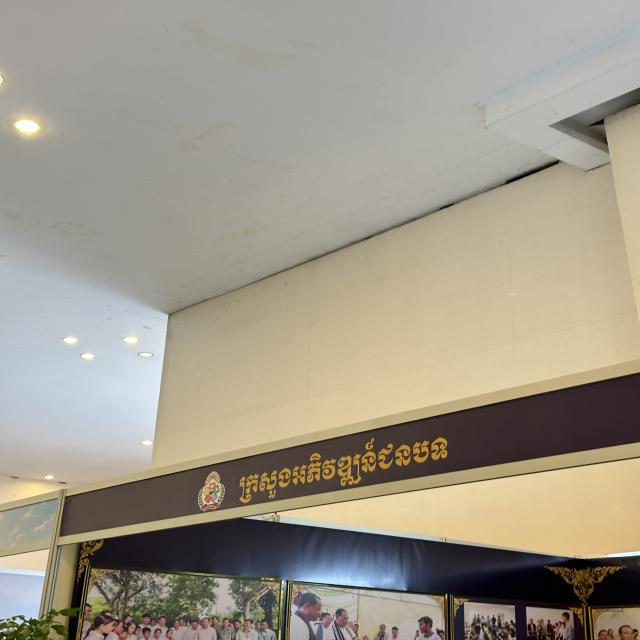Yolov11_80vkh: (230, 427, 454, 503)
